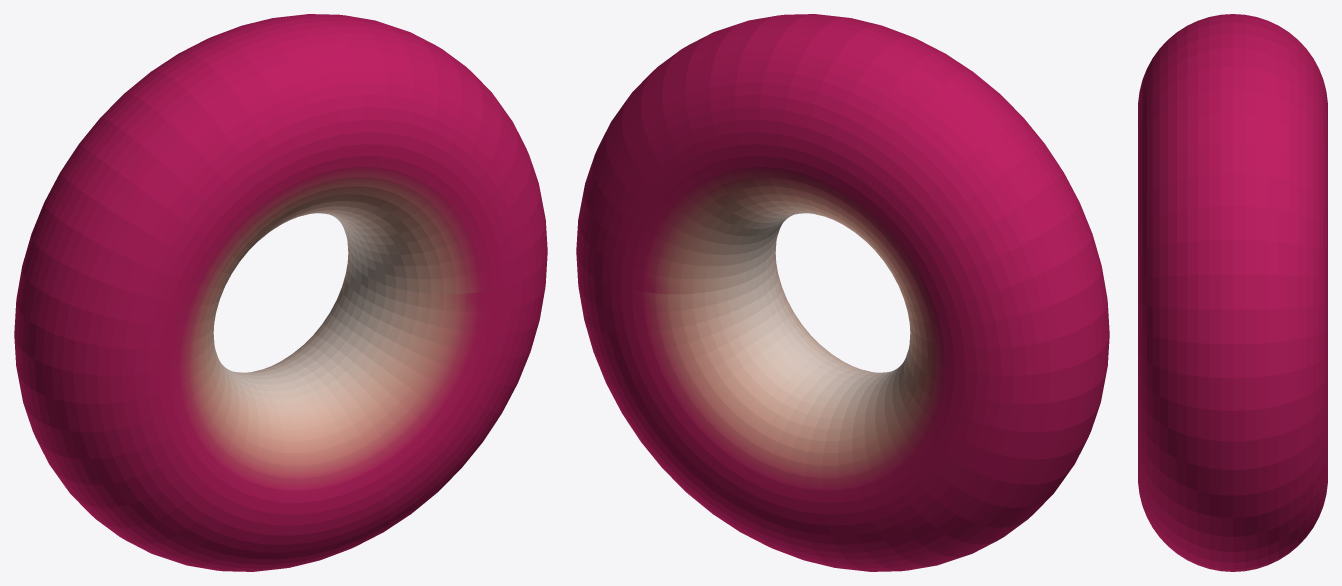
3 views of the same model, side by side, from view 1: azimuth 30°, elevation 25°; view 2: azimuth 150°, elevation 25°; view 3: azimuth 270°, elevation 25° (orthographic). The views are drawn at different scales.
Parts seen in each view (by area): view 1: world; view 2: world; view 3: world.
Boxes of the visible parts, x1,y1,x2,y2 form: world: (14, 14, 547, 571); world: (576, 14, 1109, 571); world: (1138, 14, 1327, 571).
Size of the model in its own units: 29.33 by 29.28 by 9.98.
